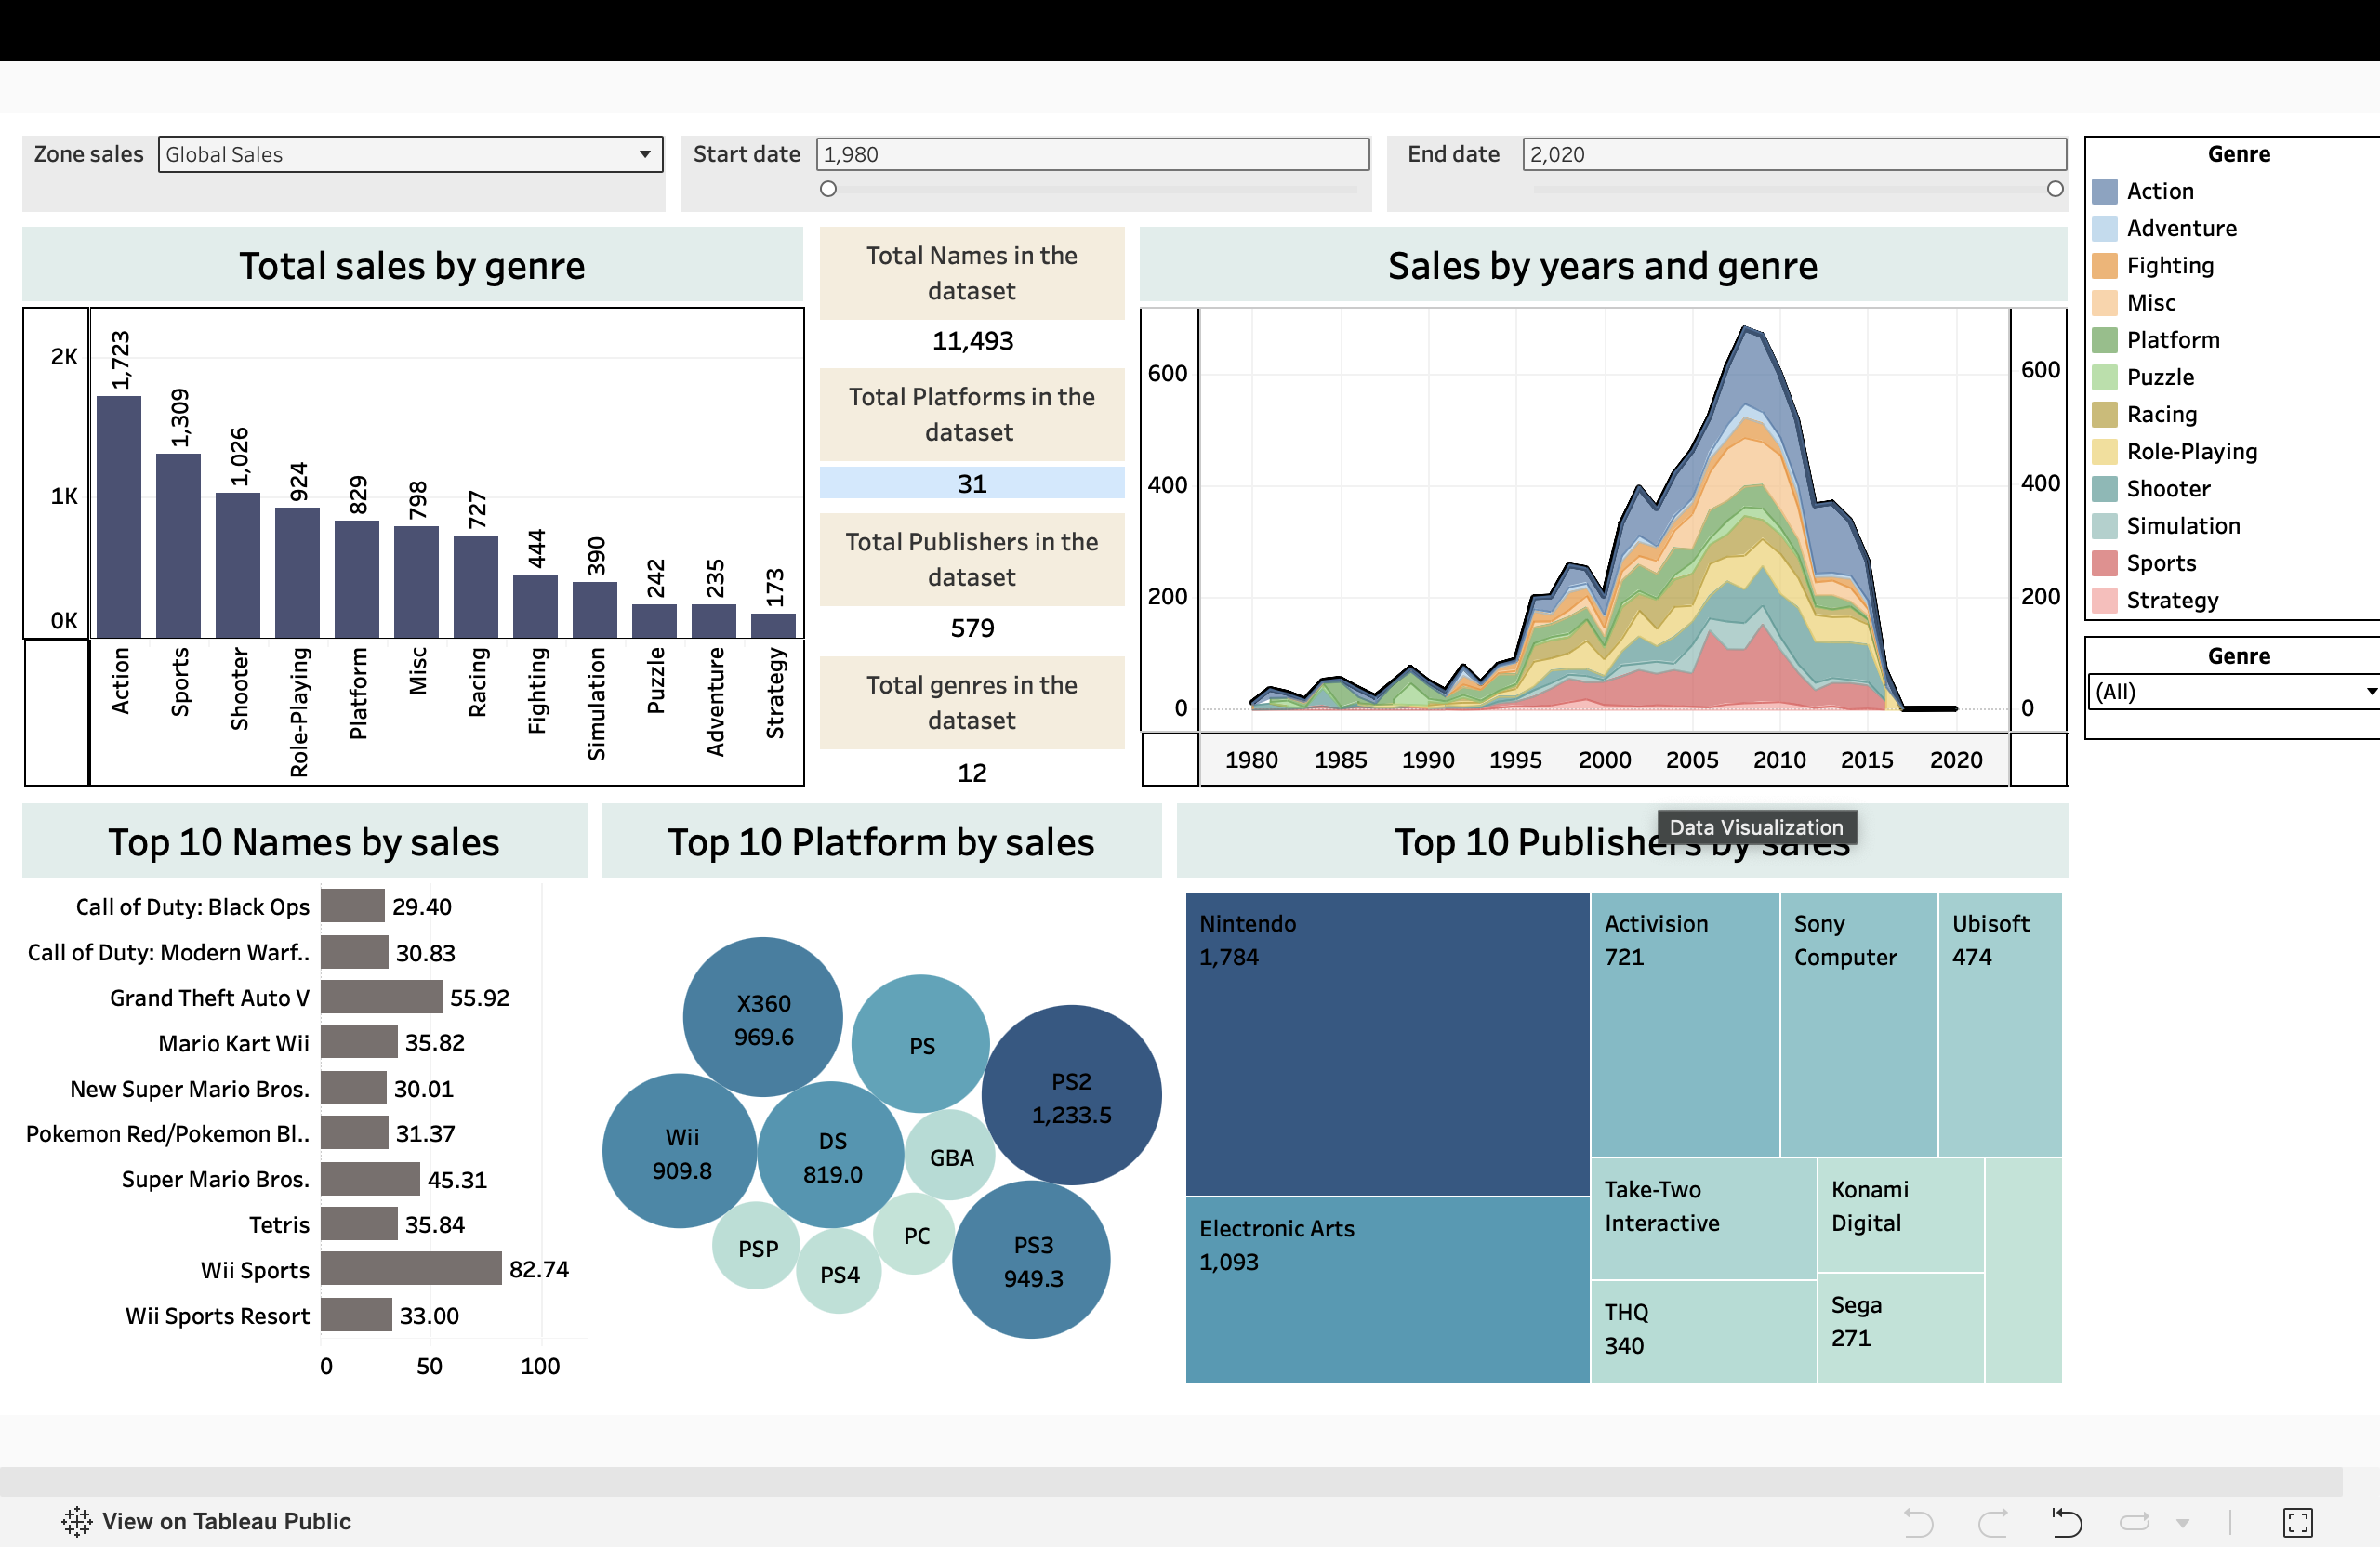

Layout of this report page (visuals, bound fields, positions):
{"tool":"tableau","page":{"name":"Global Video Game Sales Analytics Dashboard","canvas":[1300,700],"ordinal":0},"visuals":[{"type":"parameter","param":"[Parameters].[Parameter 2963771591692289]","box":[8,8,354,48.7]},{"type":"parameter","param":"[Parameters].[Parameter 2963771595165700]","box":[362,8,379.6,48.7]},{"type":"parameter","param":"[Parameters].[Parameter 2963771595337733]","box":[741.5,8,375.5,48.7]},{"type":"legend","title":"Sales by years and genre","param":"[federated.03yfix31b5uypm1bdwjye0vh6bp6].[none:Genre:nk]","box":[1117,8,175,268]},{"type":"worksheet","title":"Total sales by genre","mark":"Automatic","rows":["Calculation_2963771592220674"],"cols":["Genre"],"box":[8,56.7,429.2,309.8]},{"type":"worksheet","title":"Total Names in the dataset","mark":"Automatic","box":[437.2,56.7,171.4,76.3]},{"type":"worksheet","title":"Sales by years and genre","mark":"Automatic","rows":["Calculation_2963771592220674","Calculation_2963771592220674"],"cols":["Year"],"box":[608.6,56.7,508.4,309.8]},{"type":"worksheet","title":"Total Platforms in the dataset ","mark":"Automatic","box":[437.2,133,171.4,78.3]},{"type":"worksheet","title":"Total Publishers in the dataset ","mark":"Automatic","box":[437.2,211.3,171.4,76.7]},{"type":"filter","title":"Sales by years and genre","param":"[federated.03yfix31b5uypm1bdwjye0vh6bp6].[none:Genre:nk]","box":[1117,276,175,60]},{"type":"worksheet","title":"Total genres in the dataset","mark":"Automatic","box":[437.2,288,171.4,78.6]},{"type":"worksheet","title":"Top 10 Names by sales","mark":"Automatic","rows":["Name"],"cols":["Calculation_2963771592220674"],"box":[8,366.6,311.5,325.4]},{"type":"worksheet","title":"Top 10 Platform by sales","mark":"Circle","box":[319.5,366.6,309.1,325.4]},{"type":"worksheet","title":"Top 10 Publisher by sales","mark":"Automatic","box":[628.6,366.6,488.4,325.4]}]}

Visuals, with their boxes on the page's 1300x700 design canvas (x1, y1, x2, y2). These are canvas units, not pixel positions in the 2380x1547 screenshot, which may show the page scaled, cropped or inside an application window:
parameter: detection(8, 8, 362, 57)
parameter: detection(362, 8, 742, 57)
parameter: detection(742, 8, 1117, 57)
"Sales by years and genre" legend: detection(1117, 8, 1292, 276)
"Total sales by genre" worksheet: detection(8, 57, 437, 366)
"Total Names in the dataset" worksheet: detection(437, 57, 609, 133)
"Sales by years and genre" worksheet: detection(609, 57, 1117, 366)
"Total Platforms in the dataset " worksheet: detection(437, 133, 609, 211)
"Total Publishers in the dataset " worksheet: detection(437, 211, 609, 288)
"Sales by years and genre" filter: detection(1117, 276, 1292, 336)
"Total genres in the dataset" worksheet: detection(437, 288, 609, 367)
"Top 10 Names by sales" worksheet: detection(8, 367, 320, 692)
"Top 10 Platform by sales" worksheet (Circle marks): detection(320, 367, 629, 692)
"Top 10 Publisher by sales" worksheet: detection(629, 367, 1117, 692)
